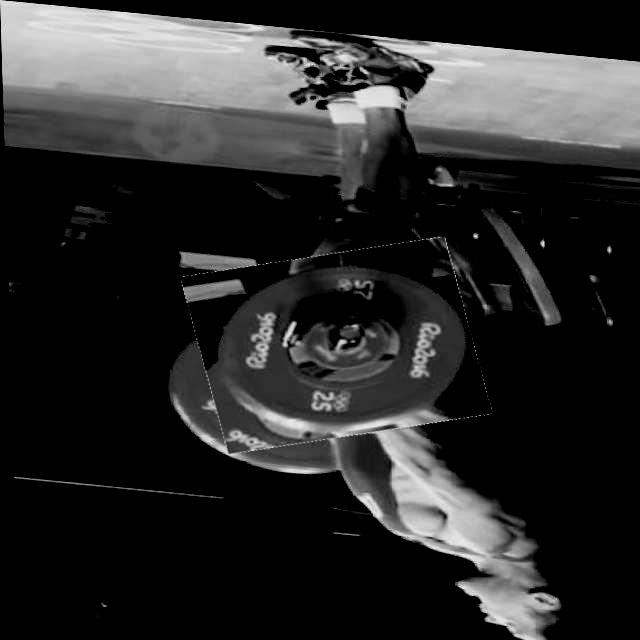barbell: (187, 225, 482, 455)
